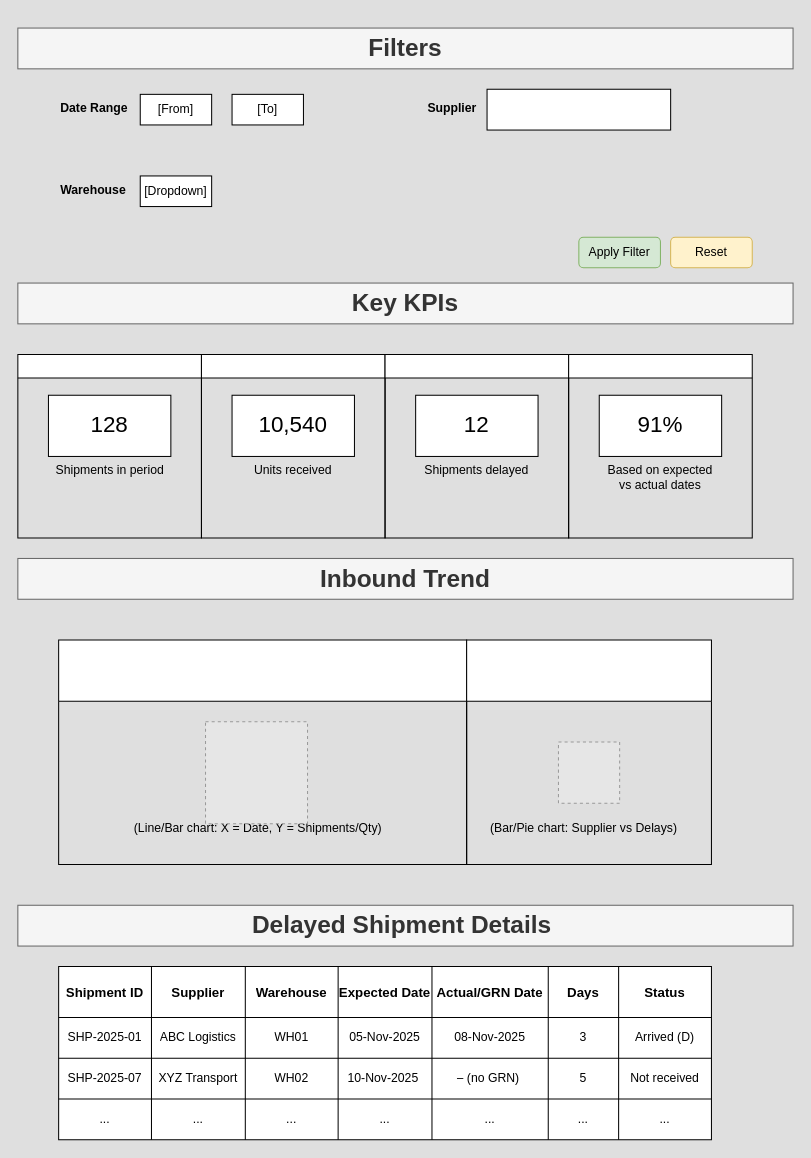
The diagram is 811 pixels wide and 1158 high, and some of its shapes have lost their labels. Grey dashed boxes stand in for pictures. Each missing label, with the box of its shape:
[ dropdown / multi-select ]: (486, 88, 671, 130)
Delayed Shipments: (384, 353, 569, 538)
Delayed Shipments by Supplier: (466, 639, 711, 864)
Inbound Volume Over Time: (58, 639, 467, 864)
On-time delivery %: (568, 353, 752, 538)
Total Qty Received: (200, 353, 385, 538)
Total Shipments: (17, 353, 201, 538)
